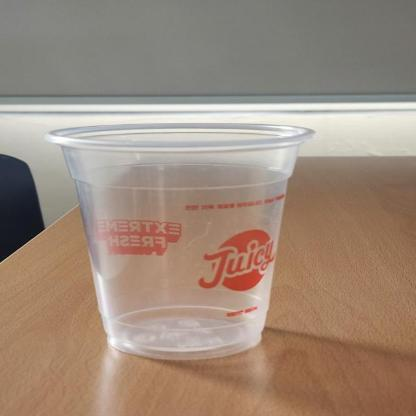Plastic Cup: (43, 122, 319, 364)
